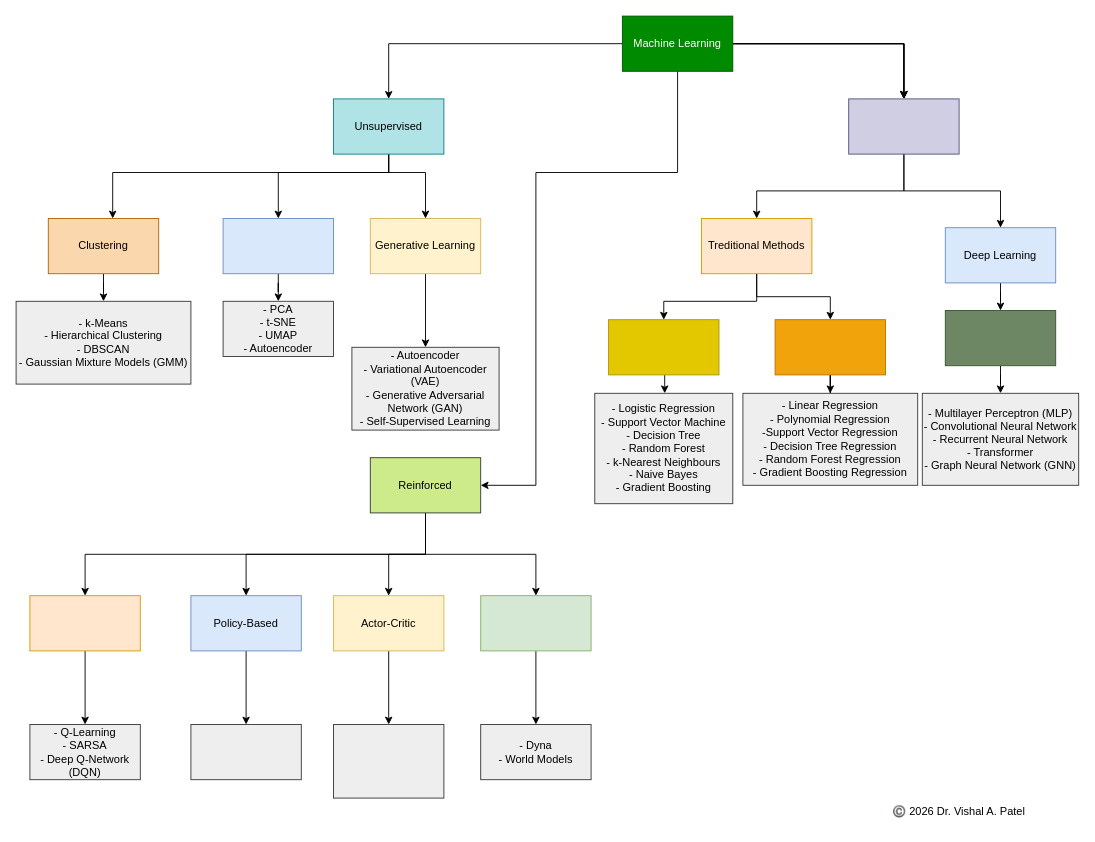
This 1095x842 diagram has some shape labels left out. The box of each missing label's shape, as (x1, y1, x2, y2) in pixels:
- A2C / A3C - PPO - DDPG - TD3 - SAC: (333, 724, 444, 798)
- REINFORCE - Policy Gradient: (190, 724, 301, 780)
Classification: (608, 319, 719, 375)
Classification & Regression: (944, 310, 1056, 366)
Dimensionality Reduction: (222, 218, 334, 274)
Model-Based RL: (480, 595, 591, 651)
Regression: (774, 319, 886, 375)
Suppervised: (848, 98, 959, 154)
Value-Based: (29, 595, 140, 651)
